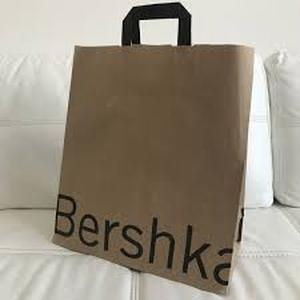bershka: (216, 116, 269, 300)
